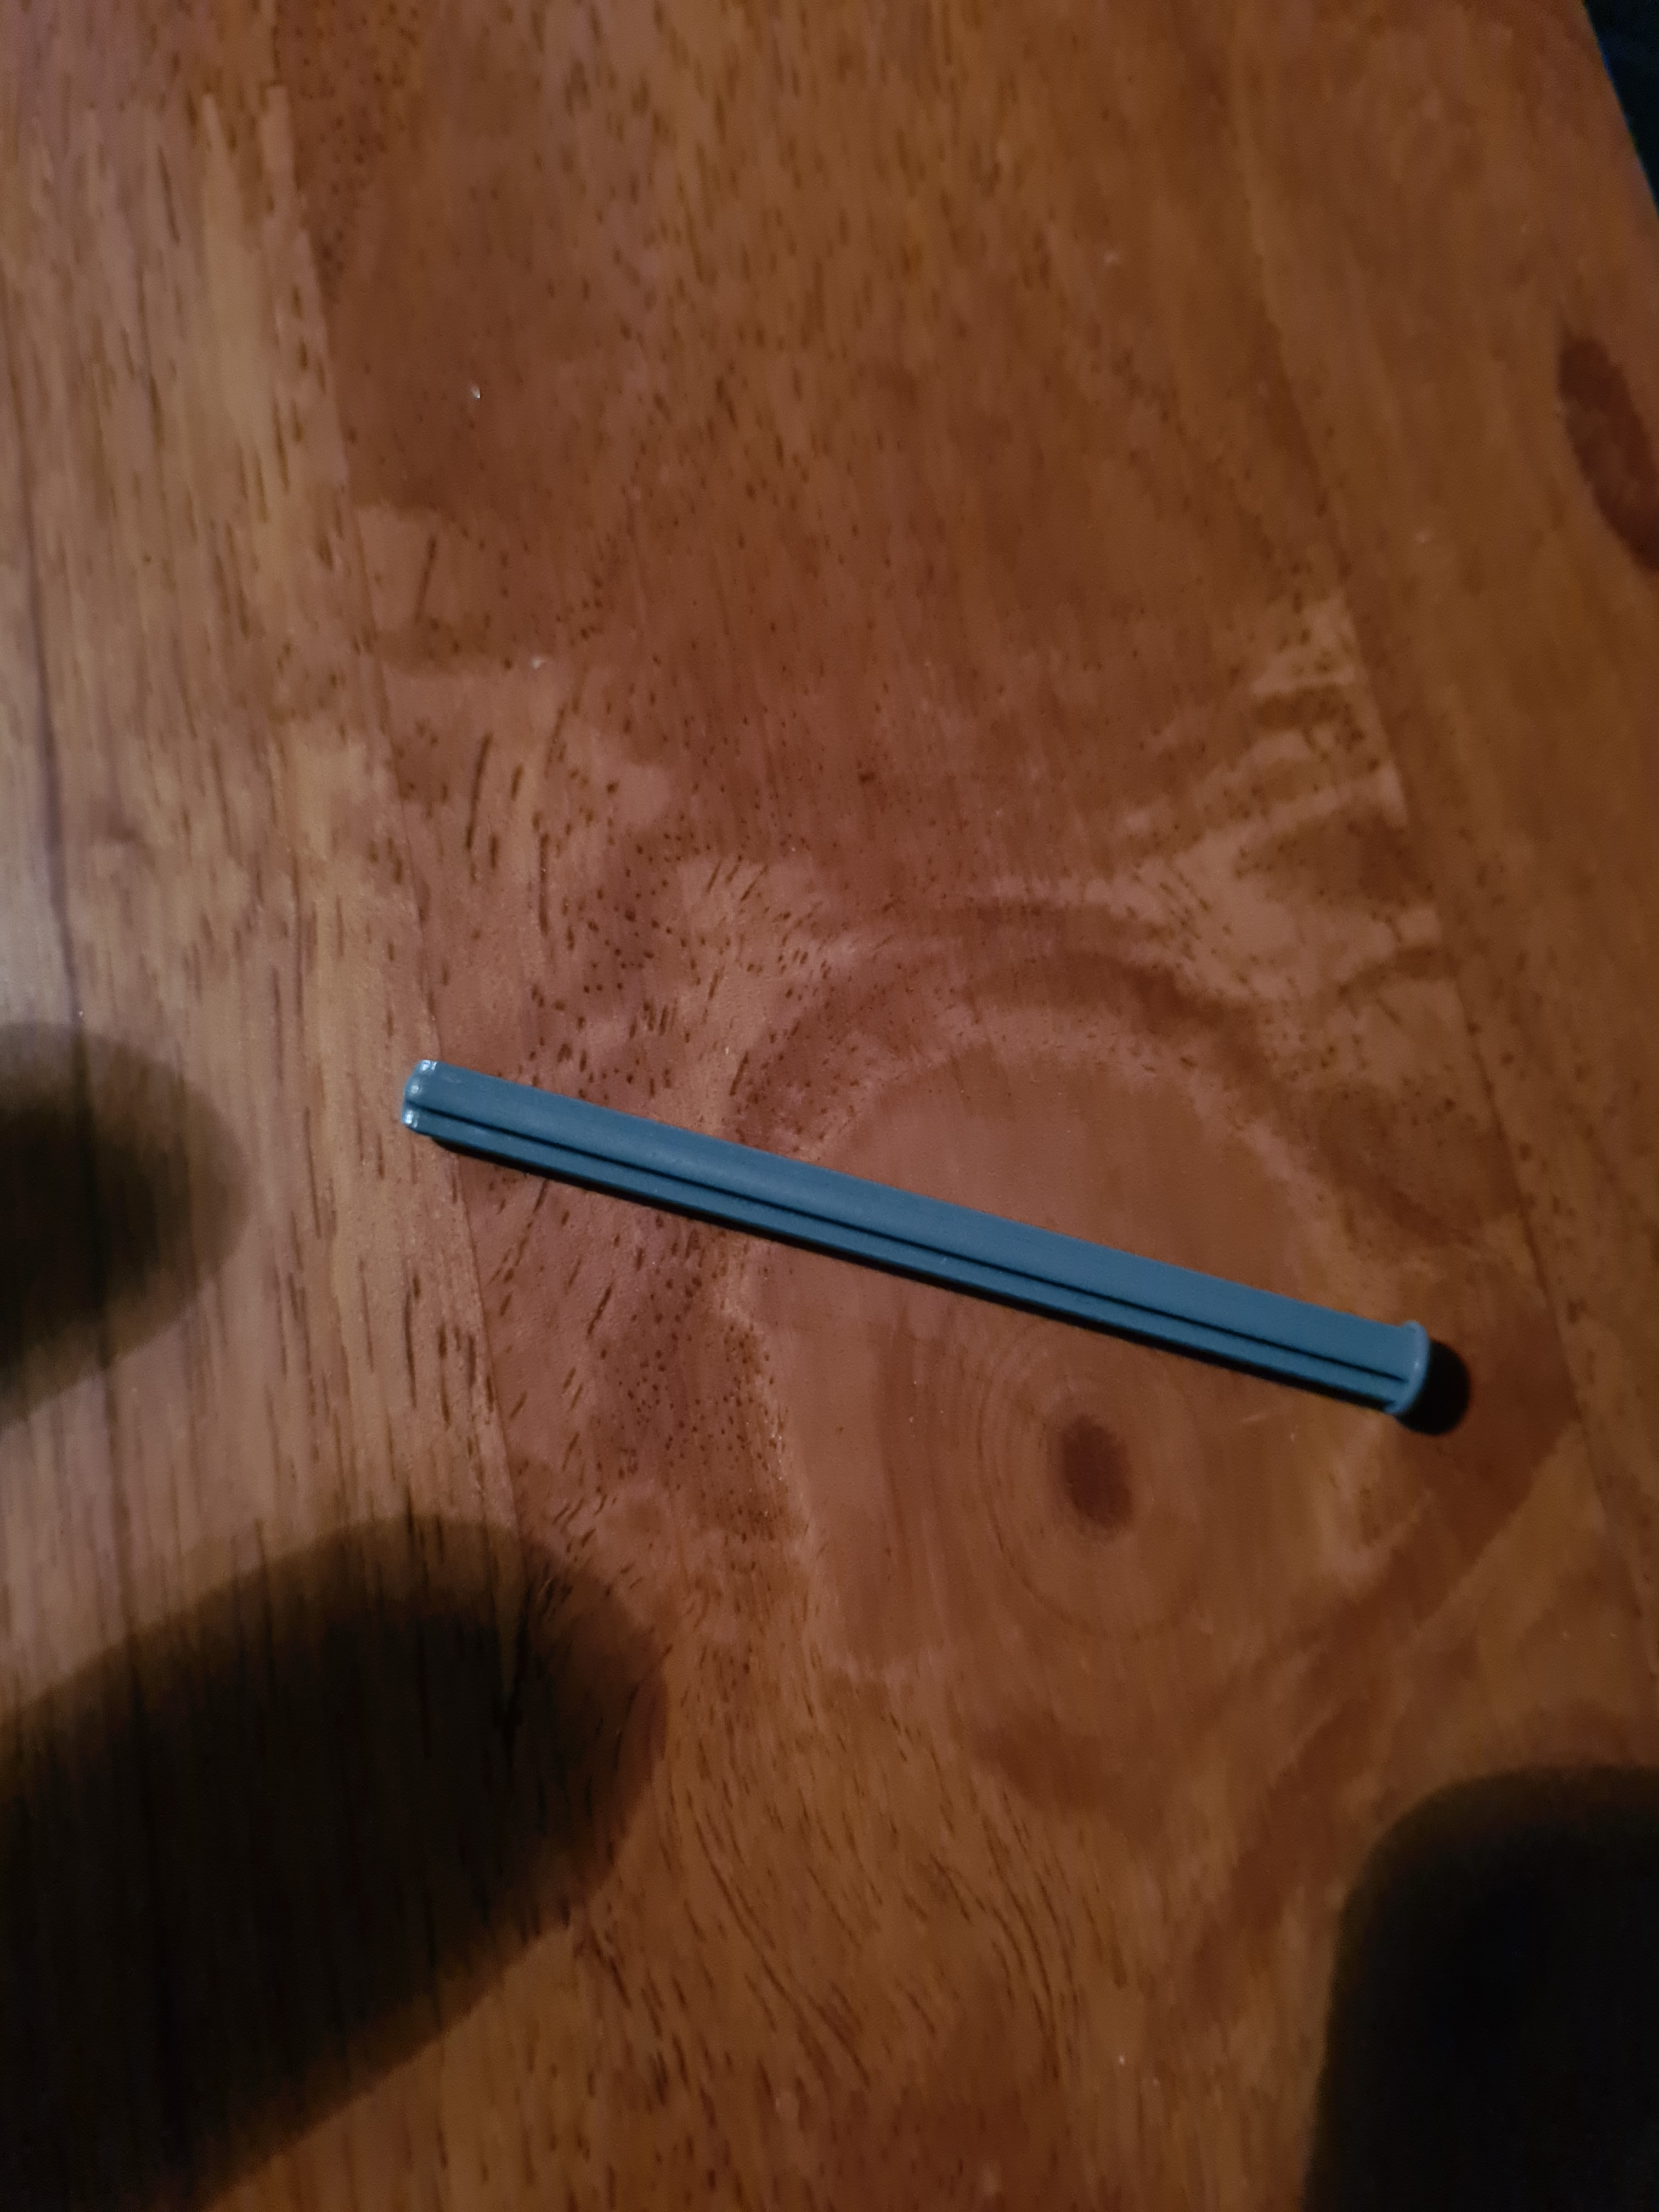Grau_lang: (387, 1014, 1460, 1465)
